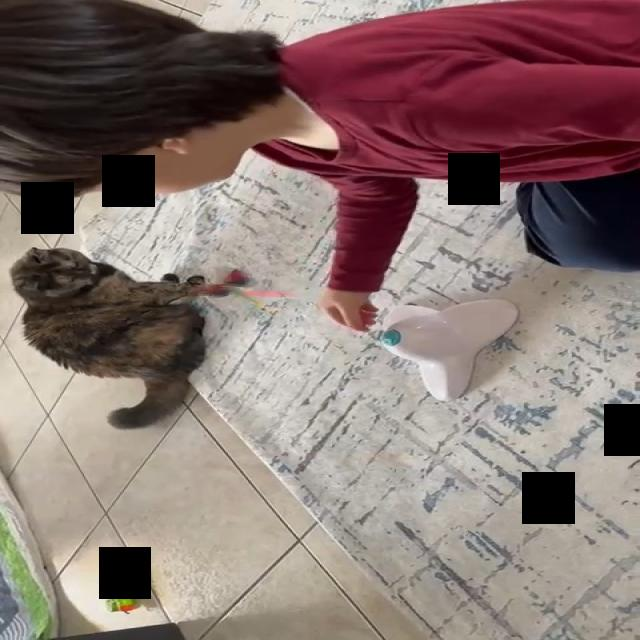authorized: (8, 246, 243, 430)
